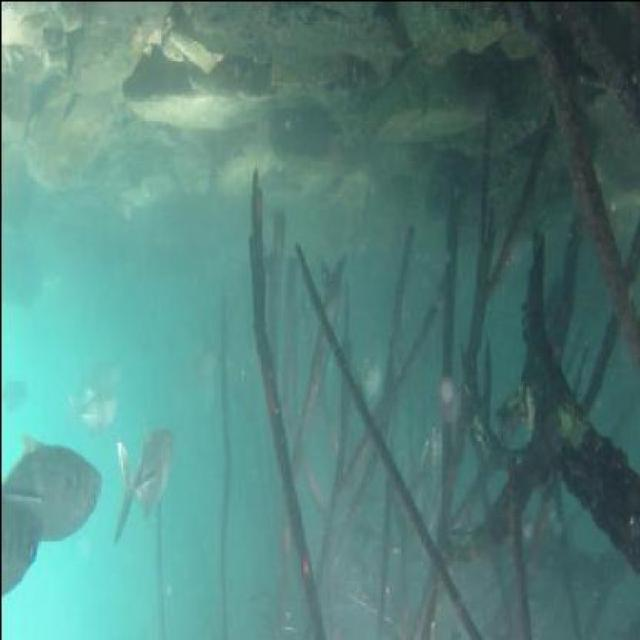Caranx_sexfasciatus_juvenile: (1, 438, 105, 557), (112, 416, 176, 552), (0, 488, 48, 612), (60, 383, 122, 440), (64, 359, 130, 406)
